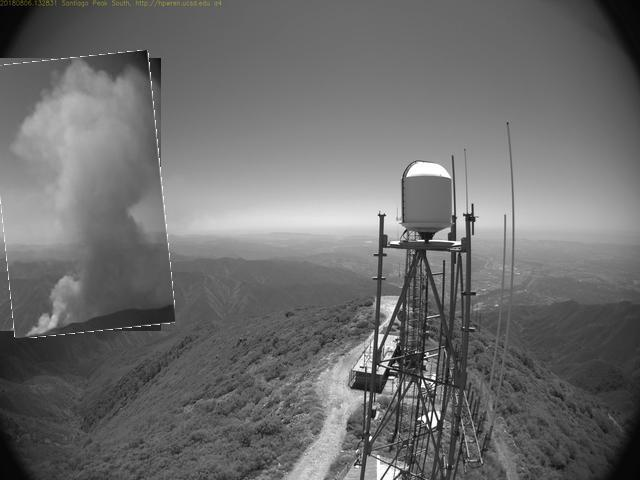smoke: (1, 55, 170, 337)
